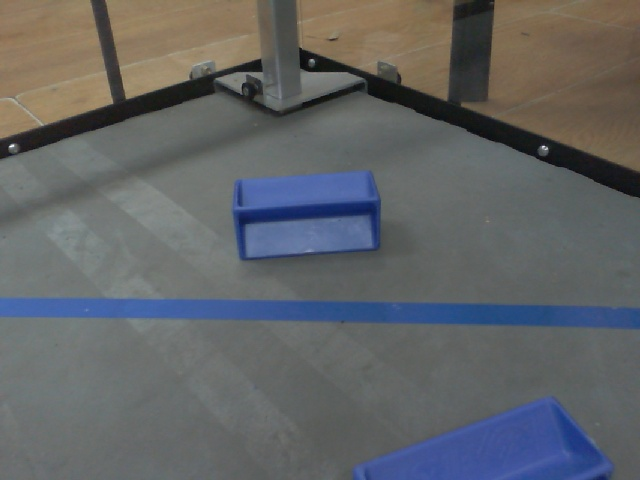BlueSample: (350, 390, 620, 480), (227, 164, 385, 264)
